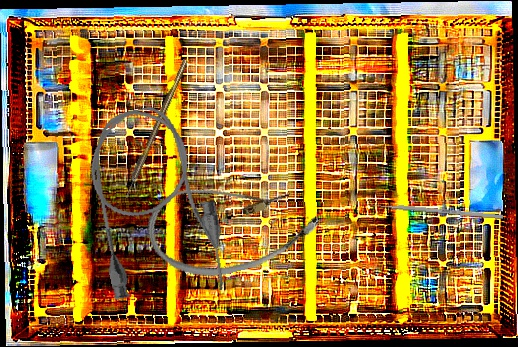Cannula: (77, 97, 233, 313), (139, 158, 327, 292)
Hook Surgical: (121, 59, 190, 199)
Pusher: (361, 201, 503, 220)
